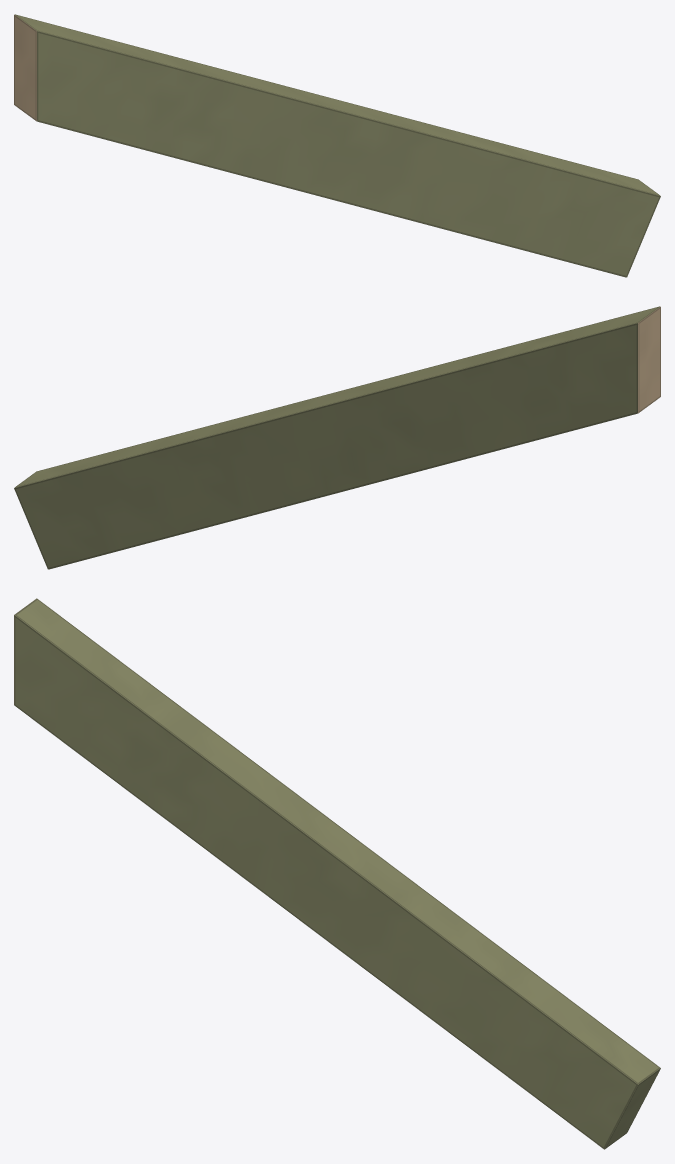
3 renders of one model, top to bottom at view 1: azimuth 30°, elevation 25°; view 2: azimuth 150°, elevation 25°; view 3: azimuth 330°, elevation 25°, orthographic.
Visible parts, largest first — view 1: part-b; view 2: part-b; view 3: part-b.
Boxes of the visible parts, x1=… form: part-b: x1=14, y1=14, x2=660, y2=277; part-b: x1=14, y1=306, x2=660, y2=569; part-b: x1=14, y1=598, x2=660, y2=1149.
Bounding box in the file's own units: 0.7254 × 0.434 × 0.0458.
